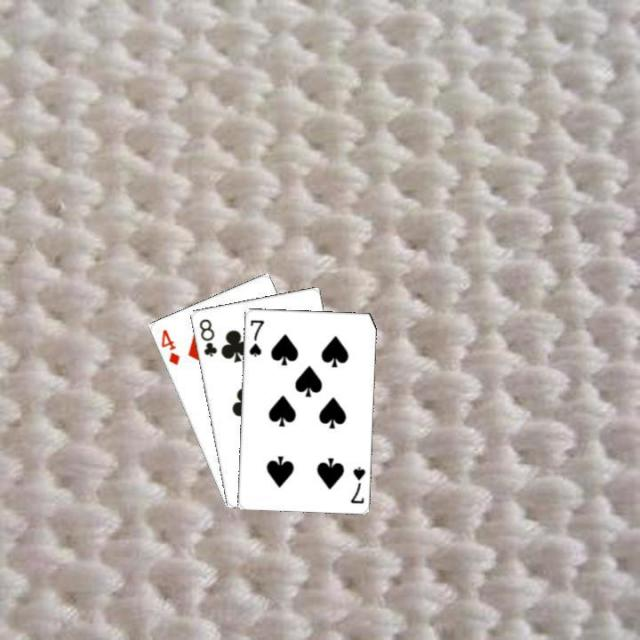4D: (156, 325, 182, 367)
7S: (244, 316, 265, 358), (346, 462, 366, 505)
8C: (194, 315, 218, 358)
